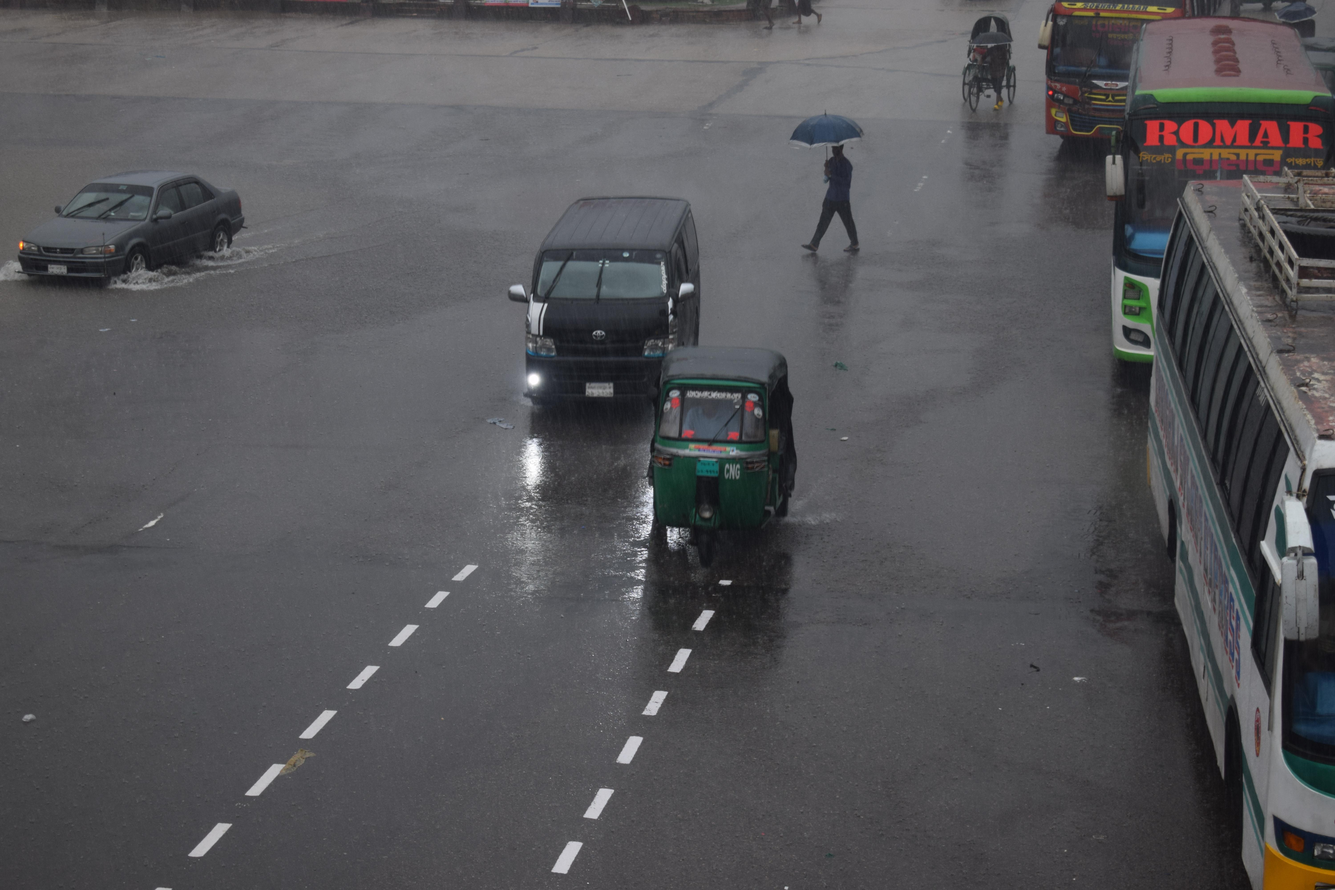Bus: (1101, 139, 1335, 890), (1080, 11, 1335, 412), (1015, 0, 1335, 171)
Car: (466, 154, 720, 445), (0, 146, 300, 330), (922, 0, 1044, 140)
